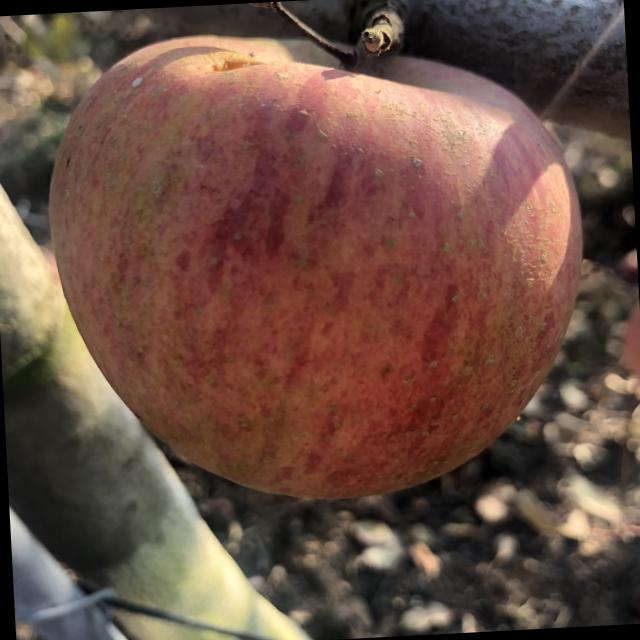fresh: (36, 2, 611, 524)
